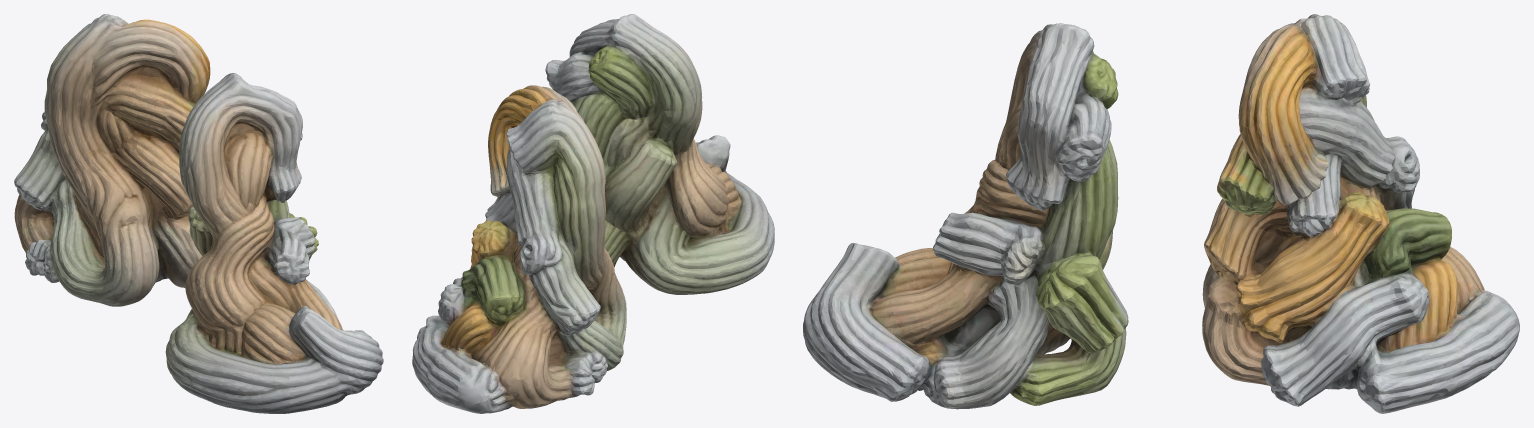
The model's file is 05_3_js_brq_bookend2-opt-v22.glb.
3 views of the same model, side by side, from view 1: azimuth 30°, elevation 25°; view 2: azimuth 150°, elevation 25°; view 3: azimuth 270°, elevation 25° (orthographic). The views are drawn at different scales.
Visible parts, largest first — view 1: tripo_node_ce7b7270-dfee-40e5-b33e-20417dcd1445; view 2: tripo_node_ce7b7270-dfee-40e5-b33e-20417dcd1445; view 3: tripo_node_ce7b7270-dfee-40e5-b33e-20417dcd1445.
Part boxes in pixels (x1,y1,x2,y2): tripo_node_ce7b7270-dfee-40e5-b33e-20417dcd1445: [14, 14, 383, 413]; tripo_node_ce7b7270-dfee-40e5-b33e-20417dcd1445: [412, 14, 774, 413]; tripo_node_ce7b7270-dfee-40e5-b33e-20417dcd1445: [803, 14, 1519, 413].
Bounding box in the file's own units: 0.1121 × 0.16 × 0.3013.
Materials: 1 (1 with a texture image).
